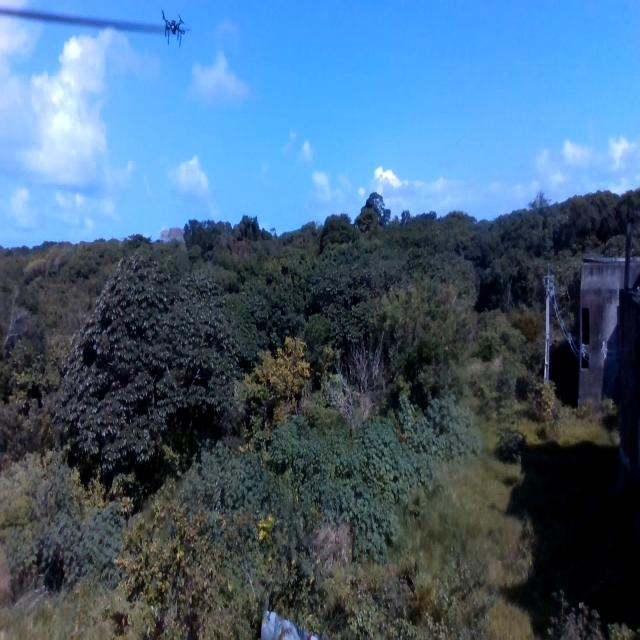-uav-: (155, 8, 193, 56)
